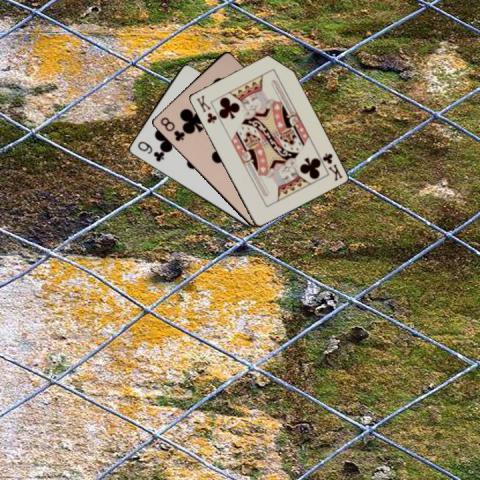8c: (157, 114, 186, 143)
9c: (134, 139, 165, 163)
Kc: (193, 92, 218, 125), (319, 150, 344, 182)
